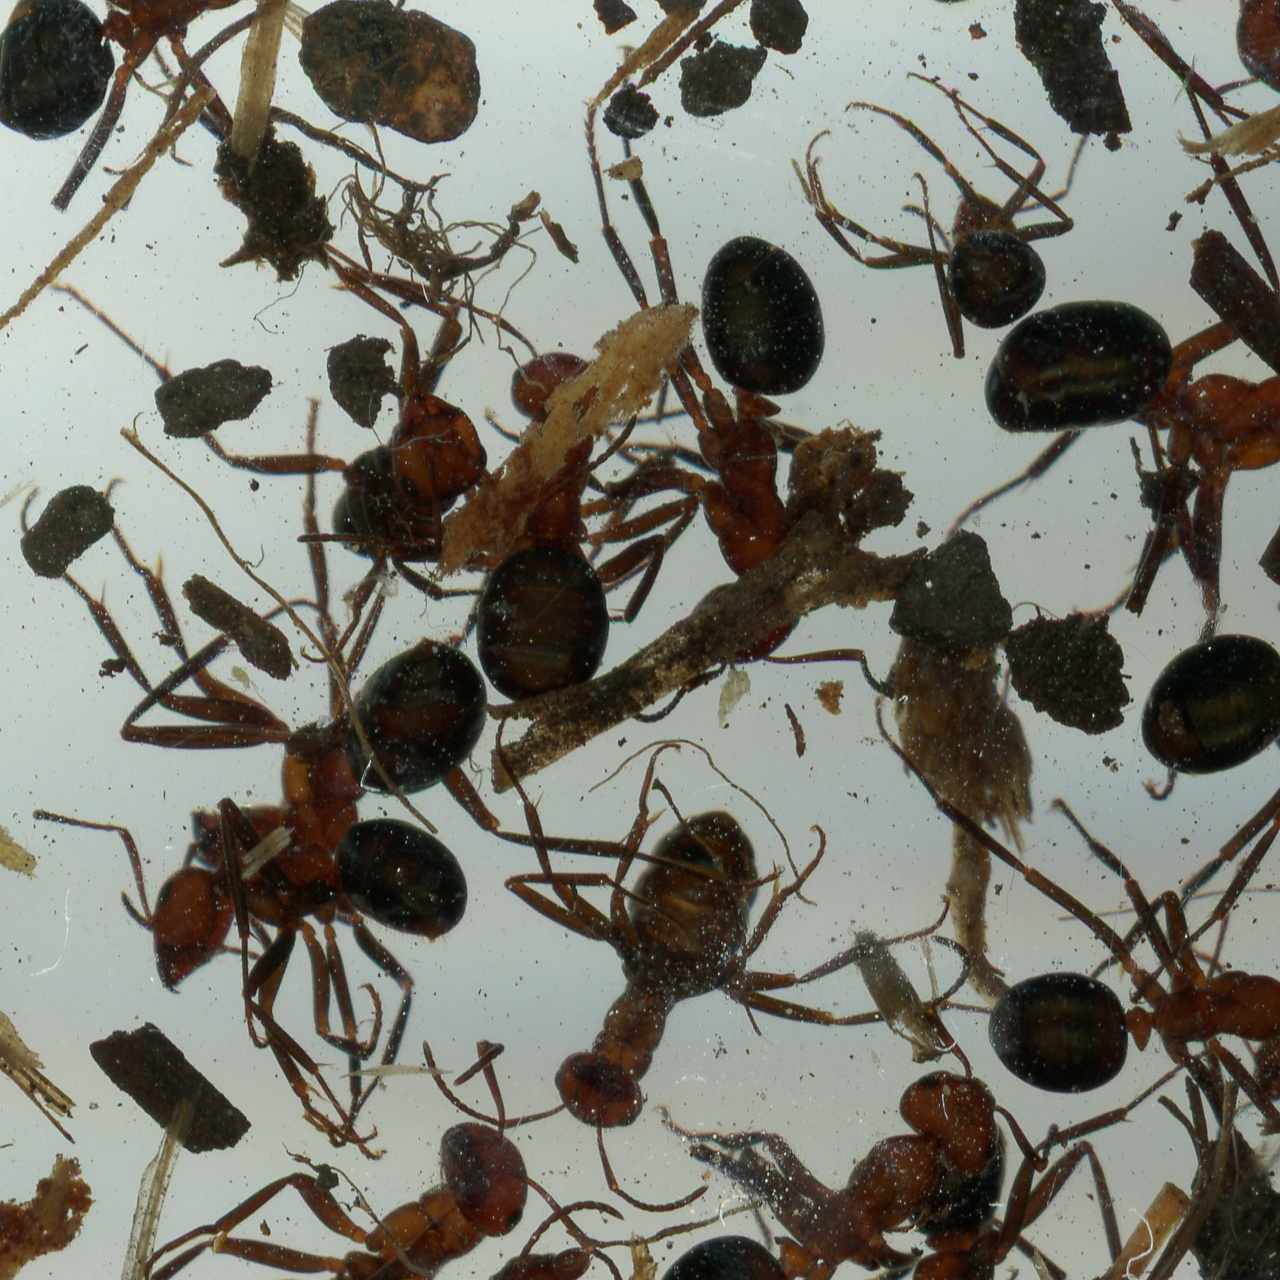arthropod: (399, 675, 965, 1274), (9, 457, 492, 966), (559, 183, 897, 734), (537, 931, 1068, 1280), (28, 788, 510, 1157), (372, 253, 690, 714), (57, 281, 497, 568), (928, 776, 1280, 1114), (931, 290, 1280, 627), (129, 994, 510, 1280), (0, 0, 413, 224), (1108, 442, 1280, 958), (788, 77, 1087, 367), (428, 1187, 784, 1280), (790, 1132, 1009, 1280), (892, 0, 1280, 59), (1241, 948, 1280, 1157), (217, 656, 282, 708)
